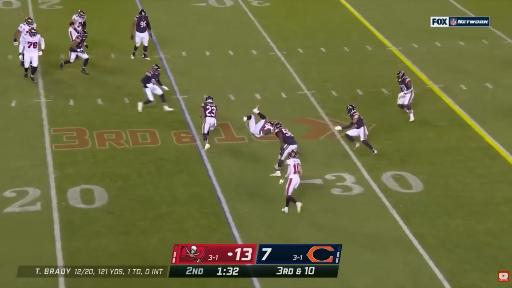Helmet: (346, 104, 356, 115), (152, 63, 162, 73), (287, 150, 298, 159), (28, 28, 37, 37), (274, 121, 283, 130), (205, 95, 214, 103), (396, 71, 405, 79), (26, 17, 34, 25), (139, 8, 146, 17), (79, 11, 86, 18), (81, 31, 87, 38)
Jersey: (23, 35, 44, 54), (275, 128, 297, 145), (286, 158, 301, 178), (141, 71, 159, 87), (70, 36, 85, 52), (350, 111, 364, 128), (135, 16, 149, 33), (202, 102, 217, 117), (72, 15, 86, 31), (19, 23, 36, 35), (398, 77, 412, 91), (260, 123, 274, 135)
Player: (335, 105, 377, 154), (138, 65, 173, 111), (271, 122, 297, 176), (19, 27, 44, 82), (60, 30, 89, 74), (282, 151, 302, 213), (131, 9, 152, 59), (243, 106, 274, 137), (200, 96, 217, 151), (397, 72, 414, 121), (68, 10, 88, 48), (14, 18, 36, 45)
